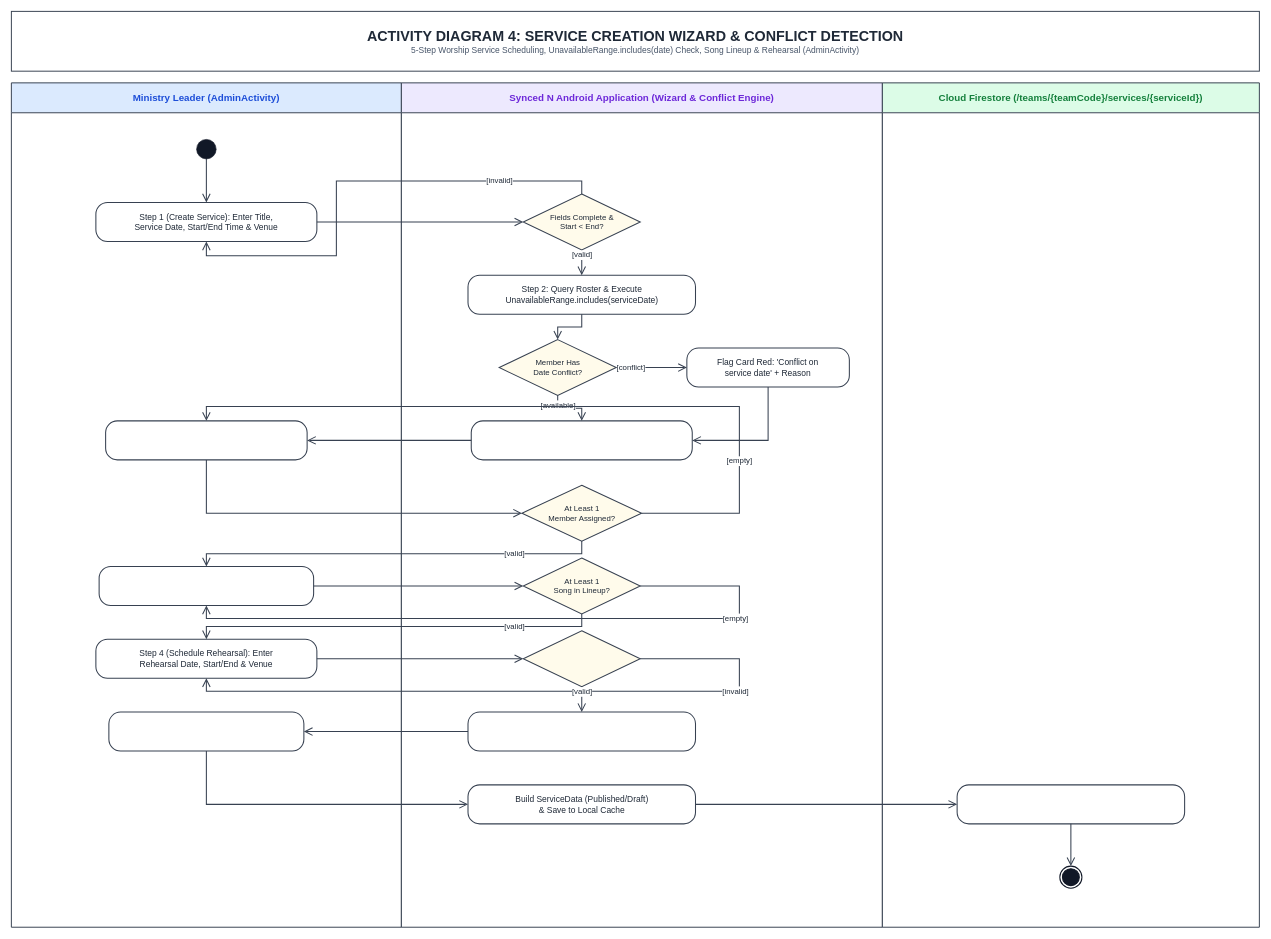
Some shapes in this 1271 by 939 pixel diagram are drawn without their labels. The centre of each missing label's shape, as x and y in pixels:
"Assign Ministry Roles & Members to Service" belongs at (x=206, y=440).
"Display Availability Summary & Member Assignment Cards" belongs at (x=581, y=440).
"Select 'Publish Schedule' or 'Save Draft'" belongs at (x=206, y=731).
"Step 3 (Song Lineup): Add, Reorder or Remove Worship Songs" belongs at (x=206, y=586).
"Step 5 (Review Service): Run serviceConflicts() & Show Summary" belongs at (x=581, y=731).
"Sync ServiceData Document to /teams/{teamCode}/services/{id}" belongs at (x=1070, y=804).
"Venue Set & Start < End?" belongs at (x=581, y=658).
